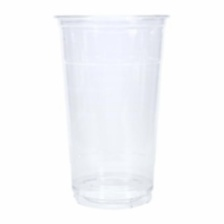glass: (43, 7, 174, 213)
